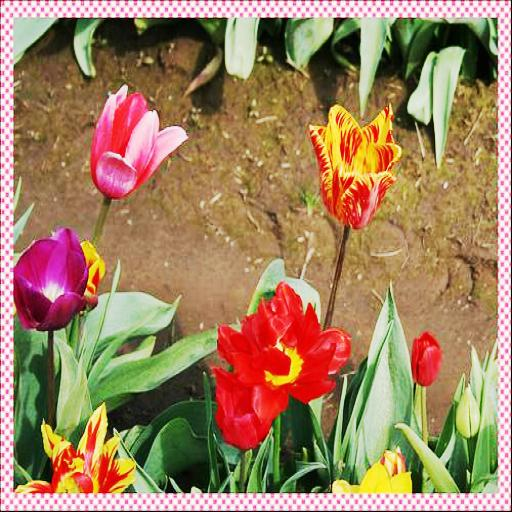tulip: (308, 100, 402, 232), (88, 82, 187, 201)
